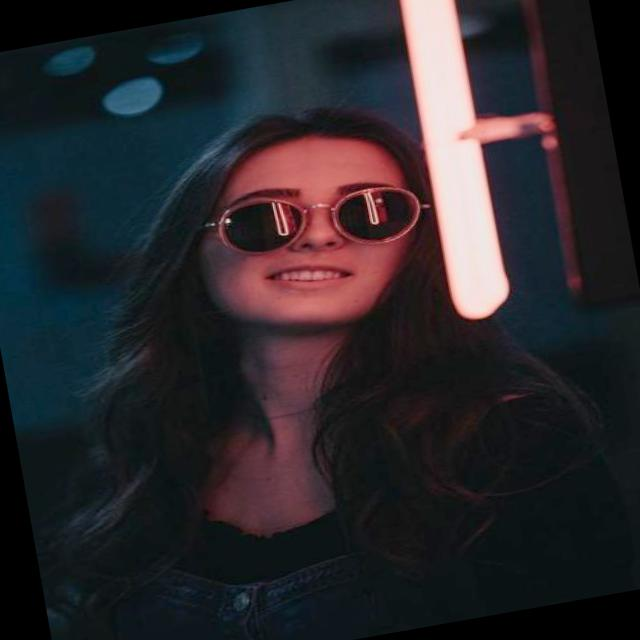glasses: (203, 168, 434, 274)
